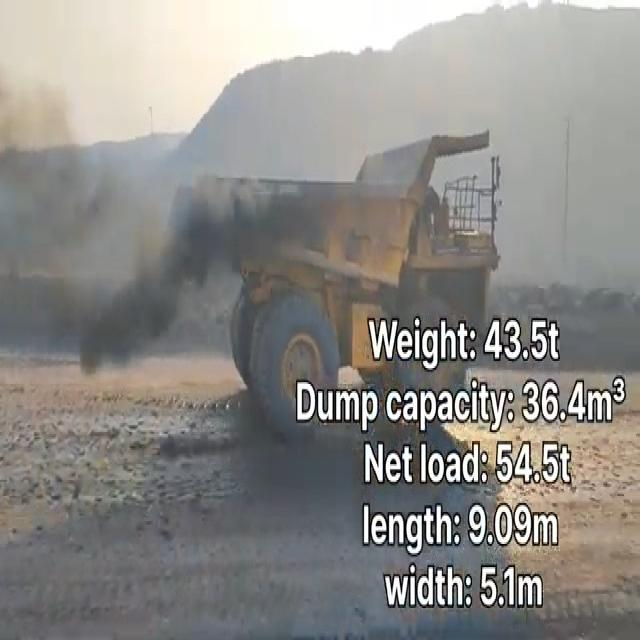dump_truck: (194, 147, 362, 386)
